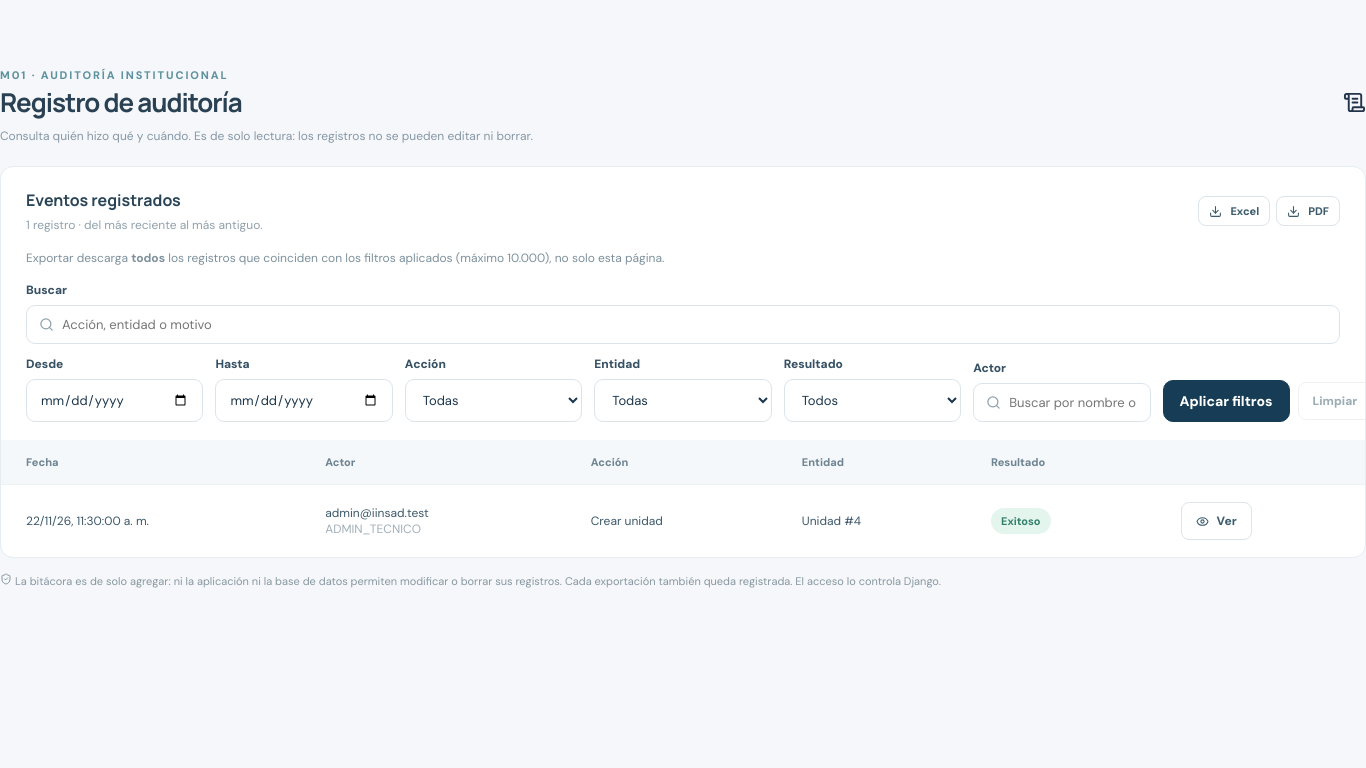
it: AuditPage › "Ver toda esta operación" filtra por la petición y permite quitar el filtro
Later steps or results of the test are not shown.
Click the button with aria-label "Ver detalle del registro 30": {"x": 1216, "y": 521} [1181,502,1252,540]
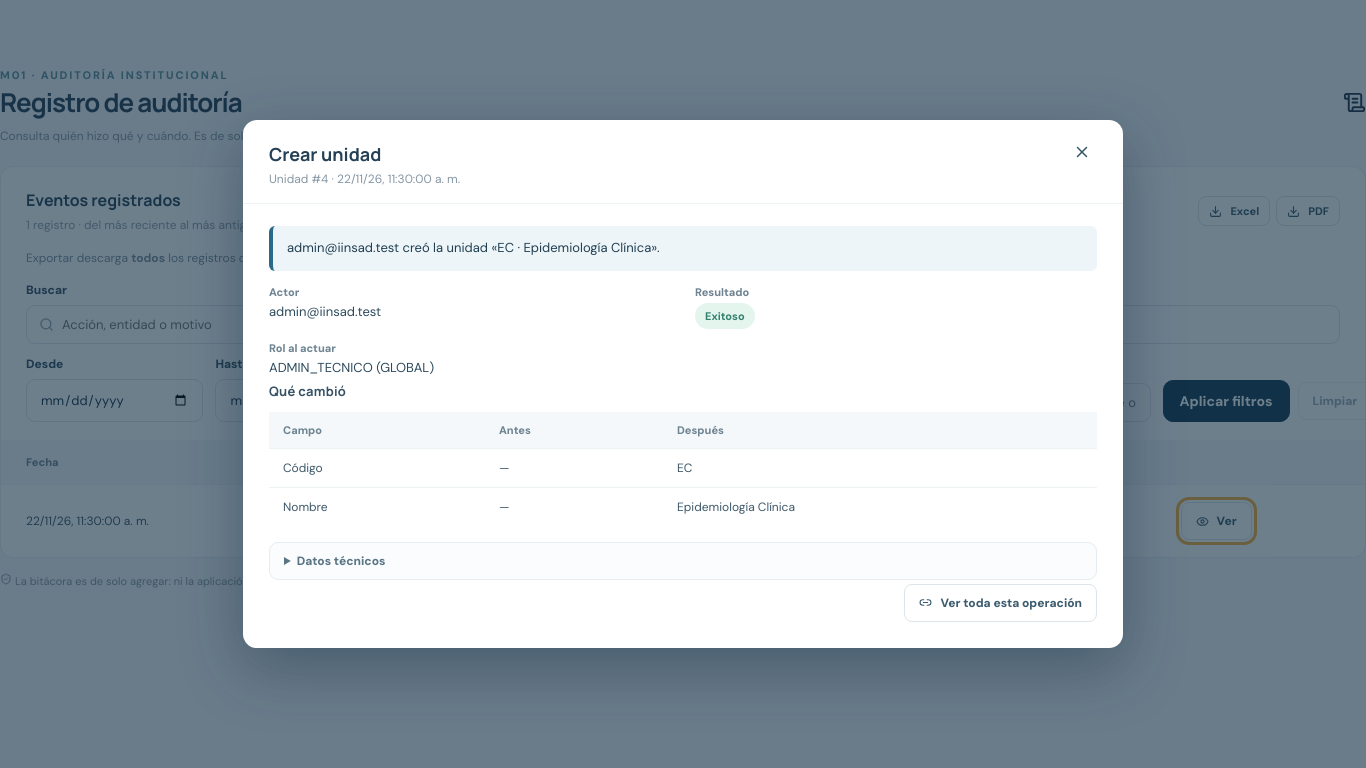
Click the button "Ver toda esta operación": {"x": 1001, "y": 603} [904,584,1097,622]
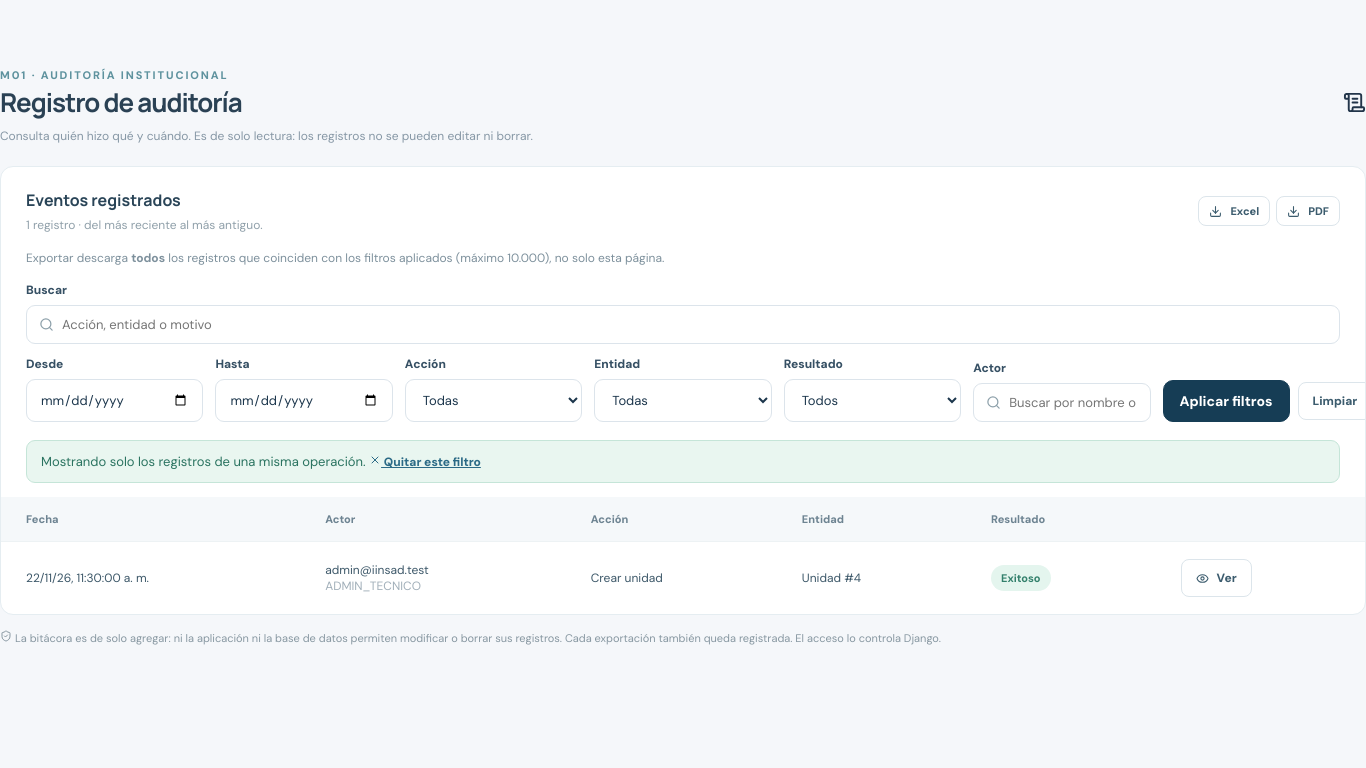
Expected: the dialog is gone
Expected: the text "Mostrando solo los registros de una misma operación. Quitar este filtro" is shown, [26,440,1340,483]
